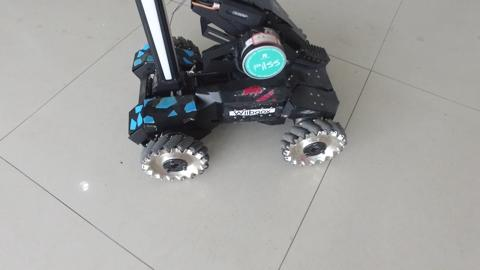chariot: (114, 8, 369, 182)
